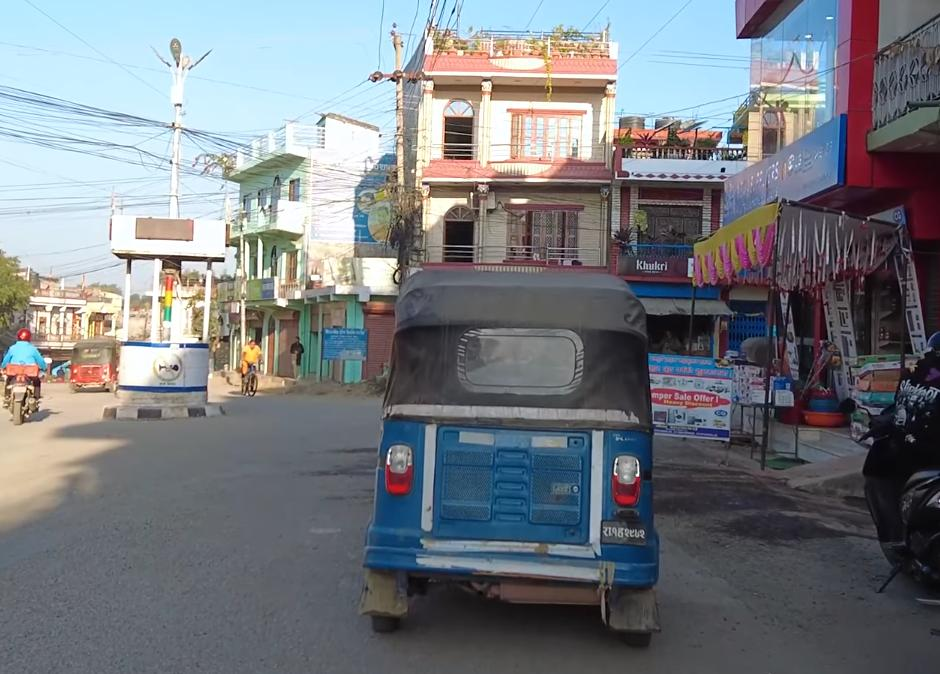auto_rickshaw: (352, 263, 676, 646), (68, 336, 123, 396)
bike: (0, 356, 56, 424)
scooter: (840, 393, 940, 606)
